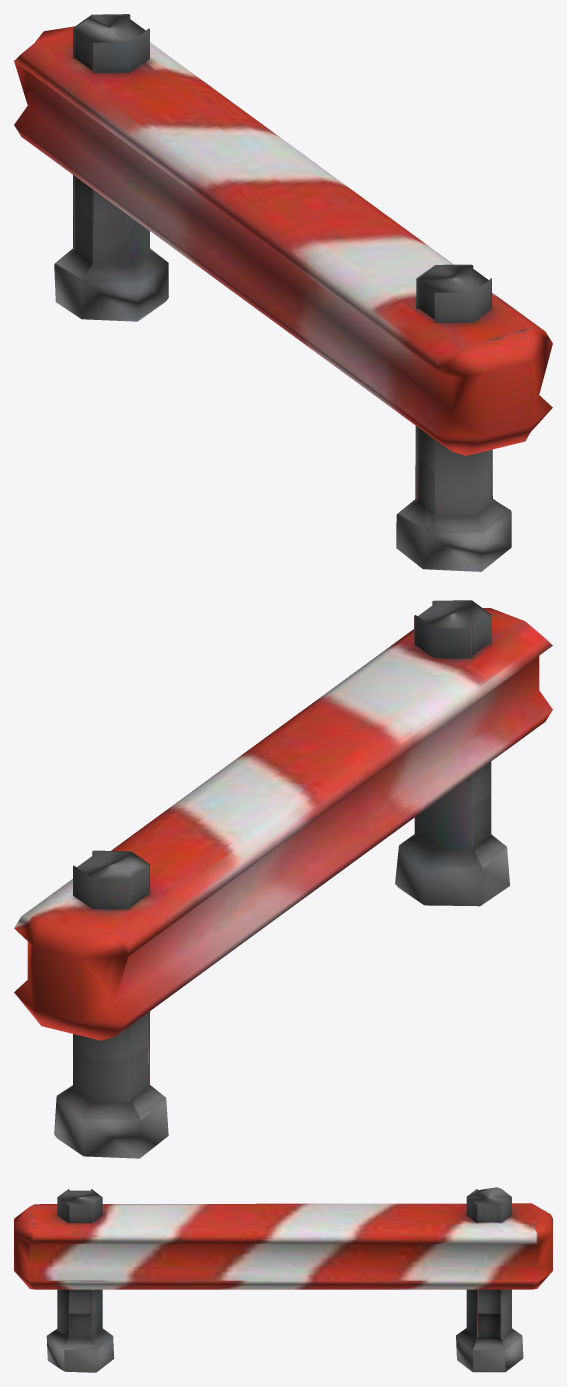
Rendered from rail.glb.
The picture shows the model from 3 angles, top to bottom: view 1: azimuth 30°, elevation 25°; view 2: azimuth 150°, elevation 25°; view 3: azimuth 270°, elevation 25°; orthographic projection. The views are drawn at different scales.
Parts seen in each view (by area): view 1: tripo_node_8e683474-9c42-4a63-aaa8-af2bf982ddd3; view 2: tripo_node_8e683474-9c42-4a63-aaa8-af2bf982ddd3; view 3: tripo_node_8e683474-9c42-4a63-aaa8-af2bf982ddd3.
Boxes of the visible parts, x1,y1,x2,y2 form: tripo_node_8e683474-9c42-4a63-aaa8-af2bf982ddd3: (14, 14, 552, 571); tripo_node_8e683474-9c42-4a63-aaa8-af2bf982ddd3: (14, 600, 552, 1158); tripo_node_8e683474-9c42-4a63-aaa8-af2bf982ddd3: (14, 1187, 552, 1372).
Bounding box in the file's own units: 0.1465 × 0.3418 × 0.998.
Materials: 1 (1 with a texture image).
